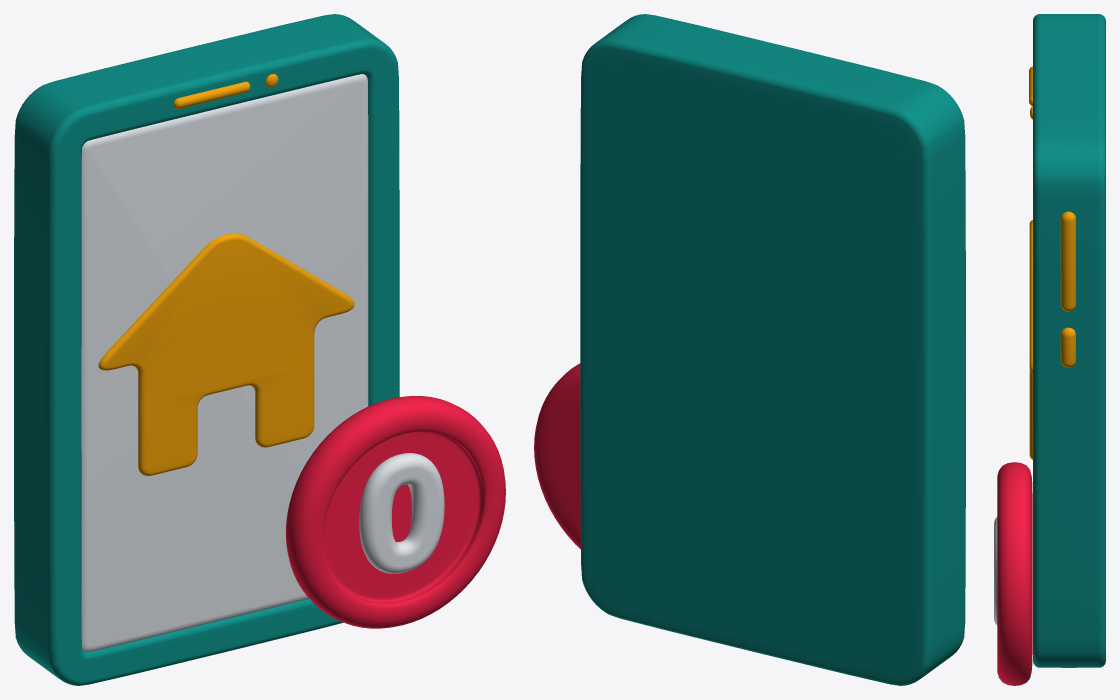
Rendered from empty-home-screen-3d-animated-icon-1307403640552.glb.
3 renders of one model, left to right at view 1: azimuth 30°, elevation 25°; view 2: azimuth 150°, elevation 25°; view 3: azimuth 270°, elevation 25°, orthographic. The views are drawn at different scales.
Visible parts, largest first — view 1: Plane.003, Plane, HP, X SIGN.001, Text, Cylinder.004; view 2: Plane, X SIGN.001; view 3: Plane, X SIGN.001, Cylinder.001, HP, Text.
Boxes of the visible parts, bbox=[...] form: Plane.003: bbox=[81, 74, 368, 652]; Plane: bbox=[14, 14, 399, 685]; HP: bbox=[98, 233, 354, 476]; X SIGN.001: bbox=[285, 396, 505, 628]; Text: bbox=[359, 453, 444, 573]; Cylinder.004: bbox=[173, 81, 250, 108]; Plane: bbox=[580, 14, 965, 685]; X SIGN.001: bbox=[534, 363, 580, 549]; Plane: bbox=[1033, 14, 1105, 667]; X SIGN.001: bbox=[997, 462, 1032, 685]; Cylinder.001: bbox=[1060, 211, 1075, 367]; HP: bbox=[1029, 220, 1032, 459]; Text: bbox=[994, 517, 997, 625].
Size of the model in its own units: 0.9621 by 1.21 by 0.2325.
